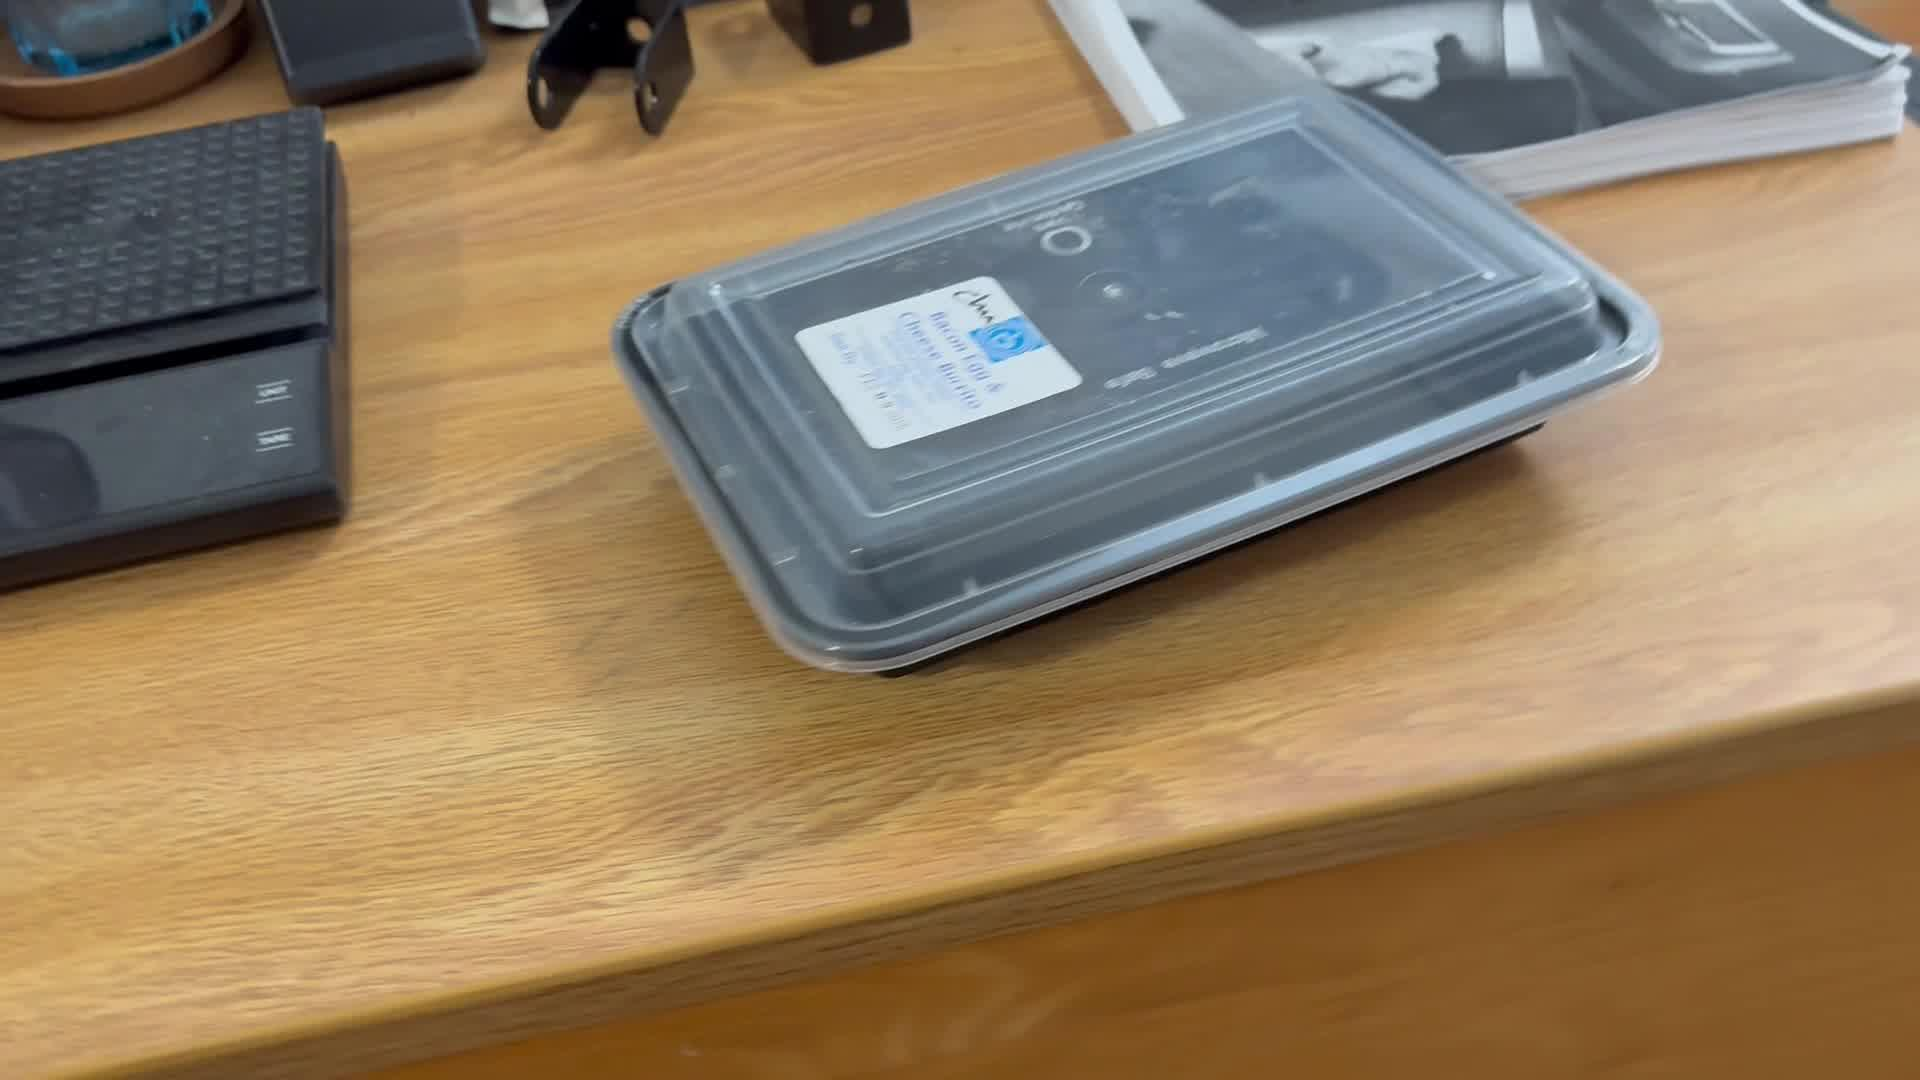lp_cup_lids: (603, 82, 1669, 686)
